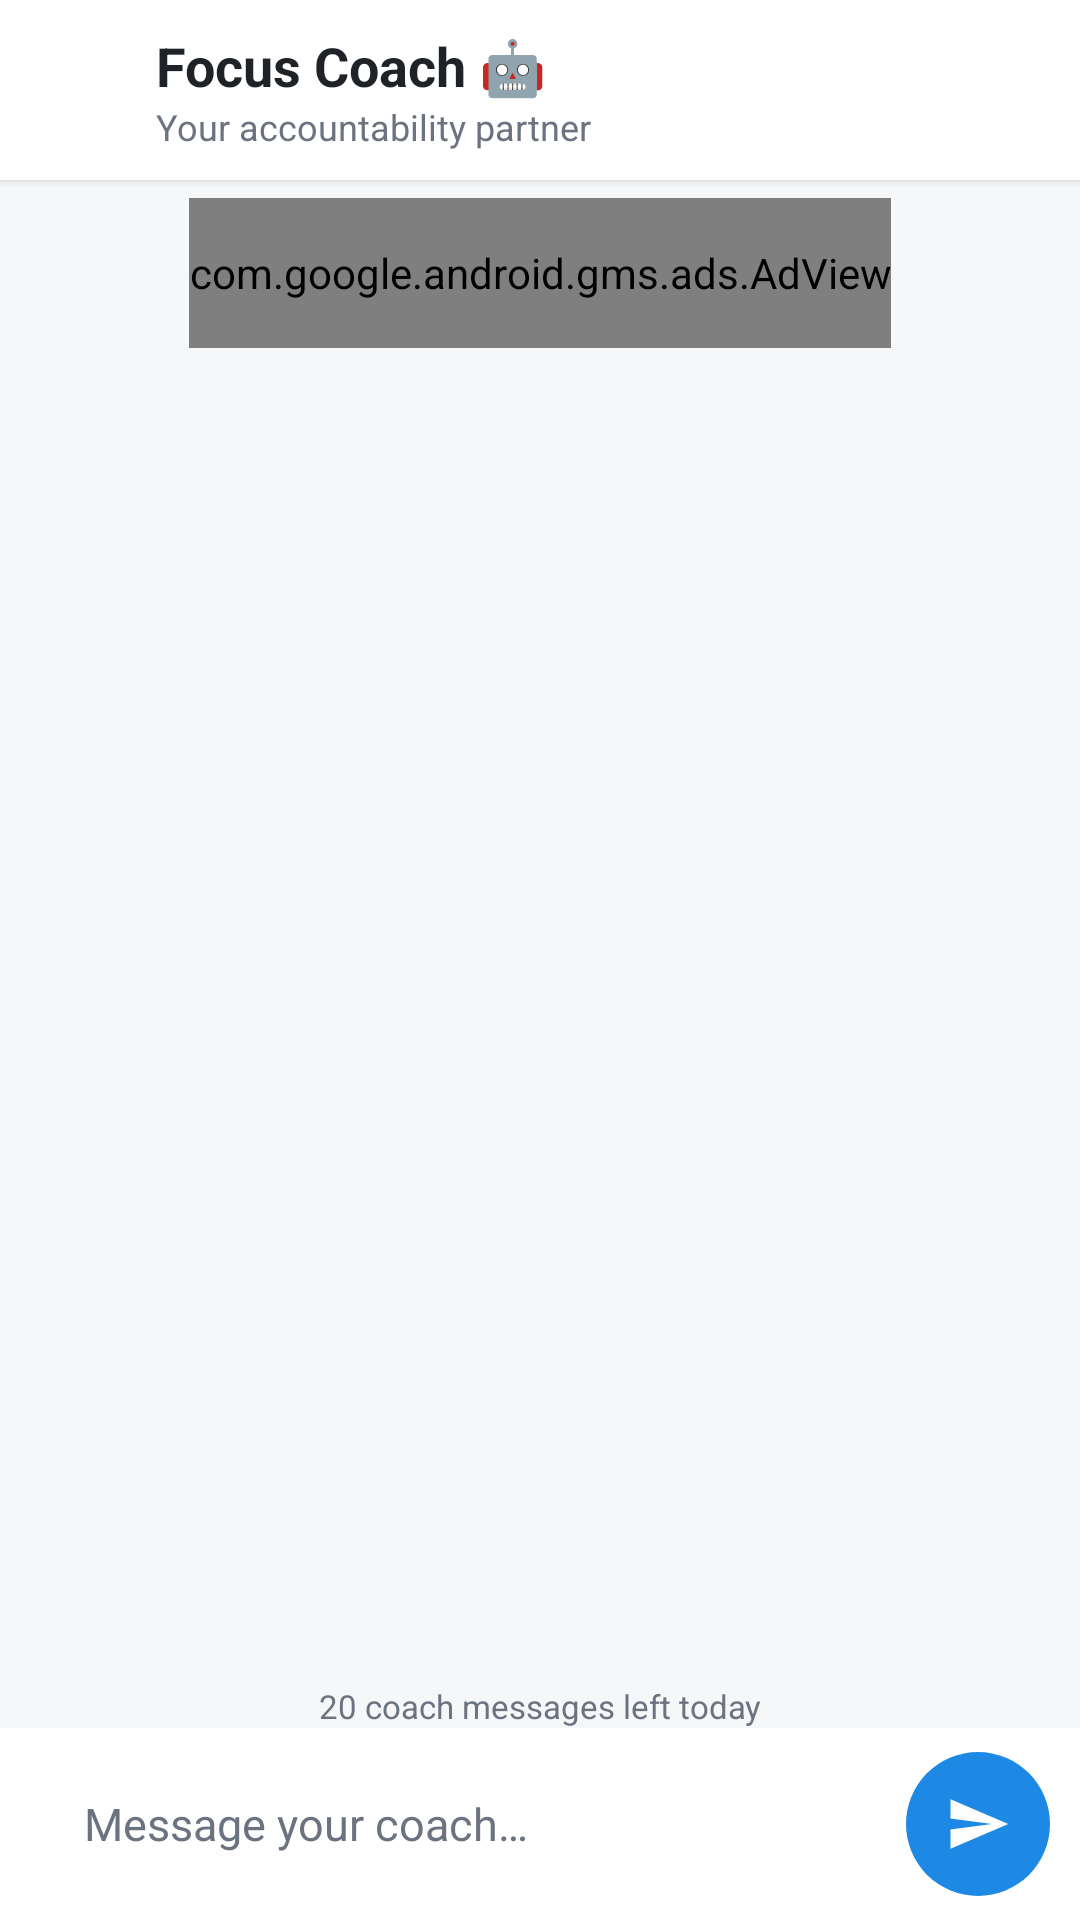

Icon click points for this 1080*1920 phone screenshot, format (x,y):
Send: (978,1824)
